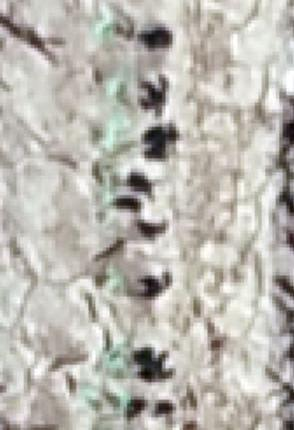cotton: (93, 20, 114, 43), (109, 350, 128, 375), (110, 75, 126, 101), (109, 119, 124, 146), (110, 270, 128, 292), (85, 387, 100, 411), (121, 392, 134, 414), (103, 192, 115, 214)
